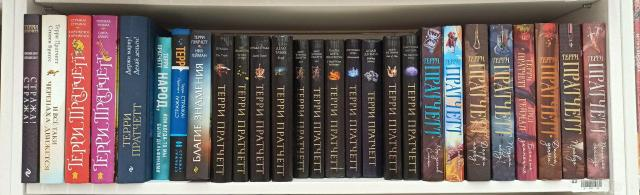book-s-spine: (117, 16, 148, 183), (65, 15, 92, 183), (40, 15, 66, 184), (91, 15, 117, 184), (582, 23, 610, 179), (535, 23, 562, 180), (464, 24, 490, 181), (559, 24, 585, 179), (490, 24, 515, 181), (186, 32, 211, 180), (514, 24, 537, 181), (211, 35, 235, 181), (422, 26, 444, 182), (444, 26, 464, 181), (272, 36, 293, 182), (21, 14, 39, 183), (170, 29, 190, 181), (250, 36, 270, 182), (325, 39, 345, 178), (362, 40, 382, 178), (402, 35, 421, 180), (153, 37, 172, 180), (384, 36, 402, 180), (293, 39, 310, 178), (233, 35, 249, 182), (346, 39, 362, 178), (310, 39, 324, 179)
